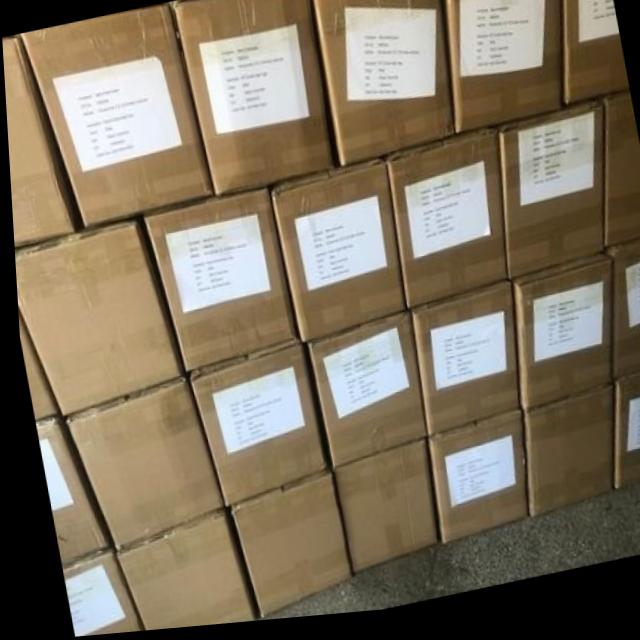box: (20, 6, 211, 228), (12, 218, 179, 418), (172, 0, 331, 199), (141, 189, 293, 377), (59, 379, 219, 552), (311, 0, 453, 173), (267, 166, 400, 347), (183, 345, 319, 508), (381, 136, 501, 315), (495, 112, 601, 291), (303, 318, 421, 474), (224, 473, 343, 622), (439, 0, 561, 140), (405, 288, 513, 441), (111, 512, 247, 633), (2, 37, 76, 246), (509, 264, 608, 419), (327, 445, 430, 579), (422, 417, 520, 552), (515, 395, 607, 526), (30, 415, 102, 566), (560, 0, 627, 115), (57, 546, 136, 637), (599, 103, 640, 256), (599, 249, 640, 390), (15, 312, 55, 422), (608, 381, 640, 499)
